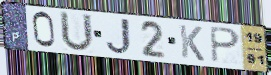0: (31, 10, 56, 49)
2: (139, 20, 167, 60)
J: (104, 17, 133, 55)
K: (178, 23, 206, 63)
P: (208, 25, 242, 64)
U: (59, 10, 96, 53)
